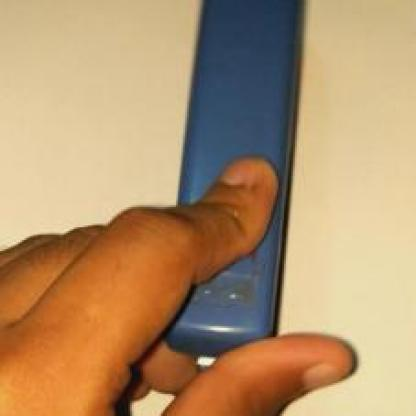stapler: (133, 8, 332, 374)
